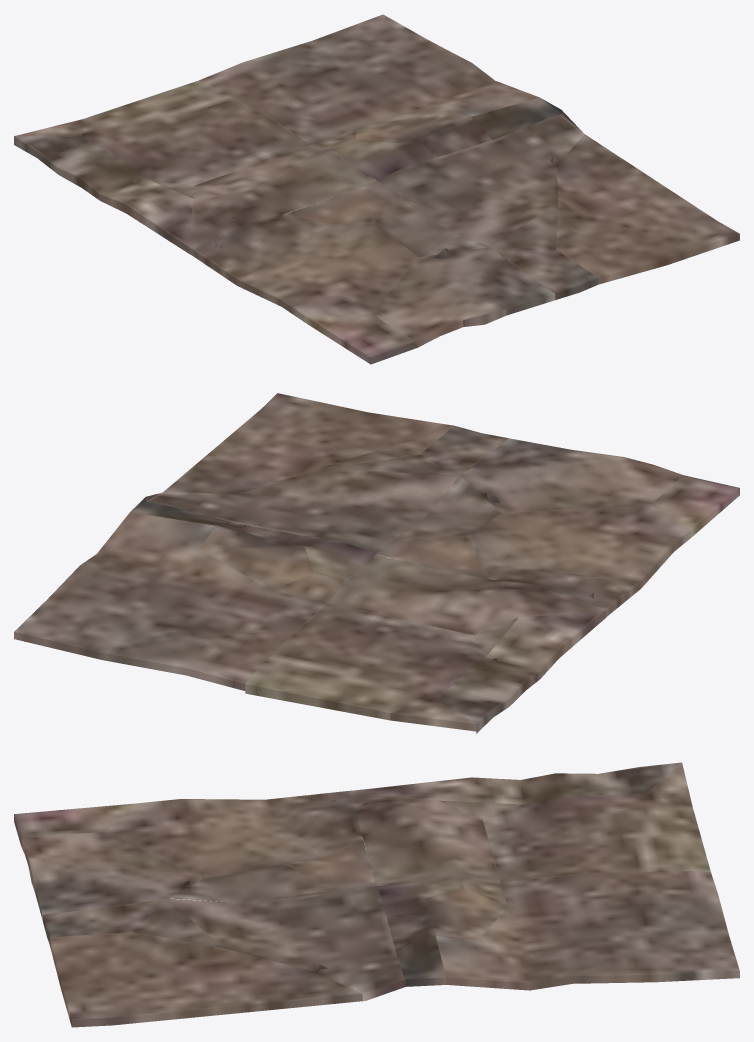
3 renders of one model, top to bottom at view 1: azimuth 30°, elevation 25°; view 2: azimuth 150°, elevation 25°; view 3: azimuth 270°, elevation 25°, orthographic. The views are drawn at different scales.
Visible parts, largest first — view 1: Mesh_0; view 2: Mesh_0; view 3: Mesh_0.
Part boxes in pixels (<box>): Mesh_0: <box>14,14,739,364</box>; Mesh_0: <box>14,393,739,733</box>; Mesh_0: <box>14,762,739,1027</box>.
Bounding box in the file's own units: 1064 × 88.78 × 1317.
Materials: 1 (1 with a texture image).
